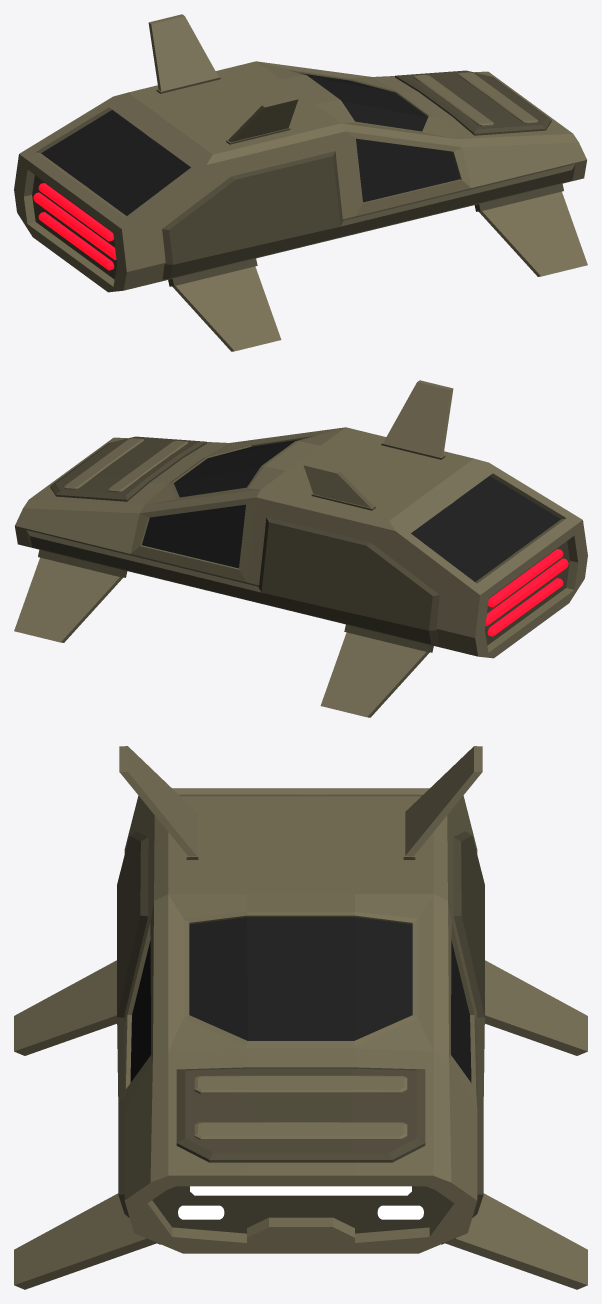
File: car2.fbx
3 views of the same model, one above another, from view 1: azimuth 30°, elevation 25°; view 2: azimuth 150°, elevation 25°; view 3: azimuth 270°, elevation 25° (orthographic). The views are drawn at different scales.
Visible parts, largest first — view 1: Cube.021; view 2: Cube.021; view 3: Cube.021.
Part boxes in pixels (x1,y1,x2,y2): Cube.021: (14, 14, 587, 351); Cube.021: (14, 380, 587, 717); Cube.021: (14, 746, 587, 1289).
Size of the model in its own units: 197 by 84.7 by 136.
